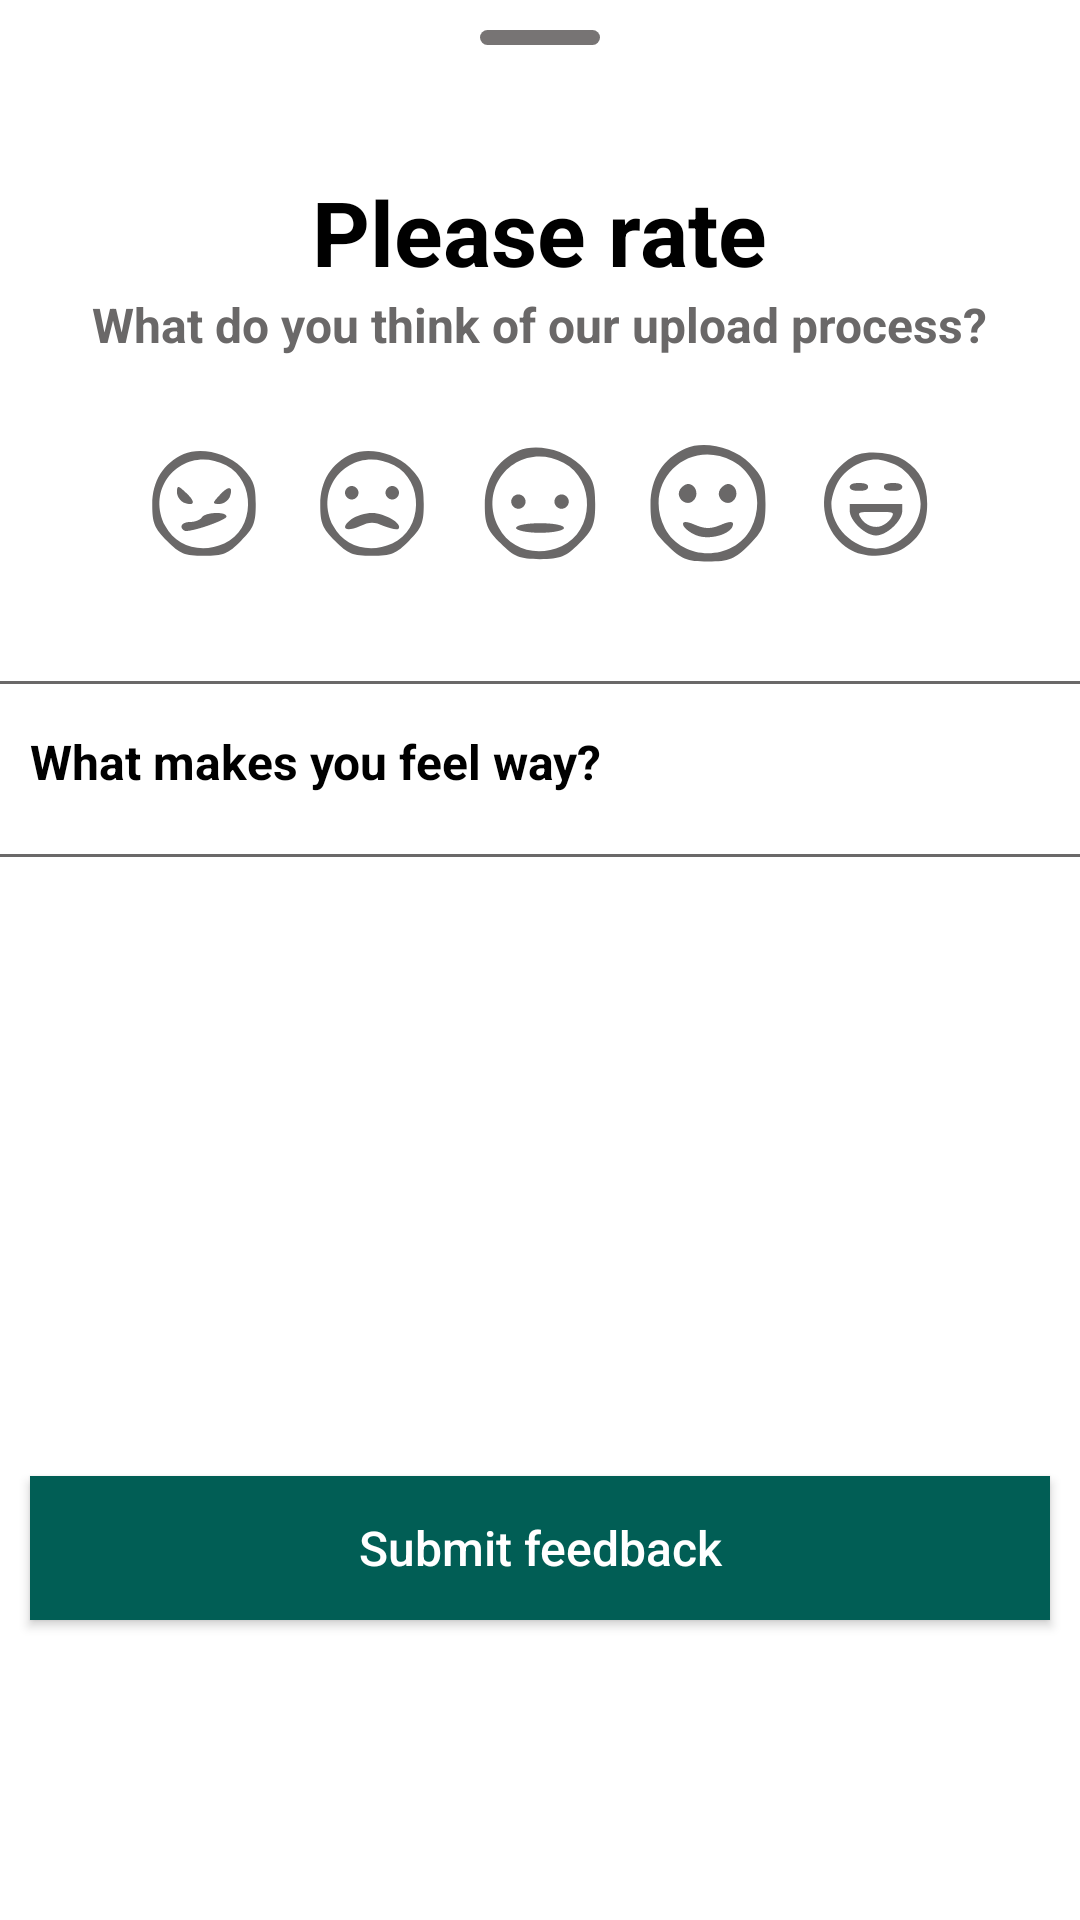

Icon bounding boxes for this 1080px x 1920px phone screenshot, format (x1, y1, x2, y2):
grd angry: (152, 451, 256, 556)
grd happy: (650, 445, 766, 562)
grd neutral: (484, 447, 596, 560)
grd sad: (320, 451, 424, 556)
grd very happy: (824, 452, 928, 556)
